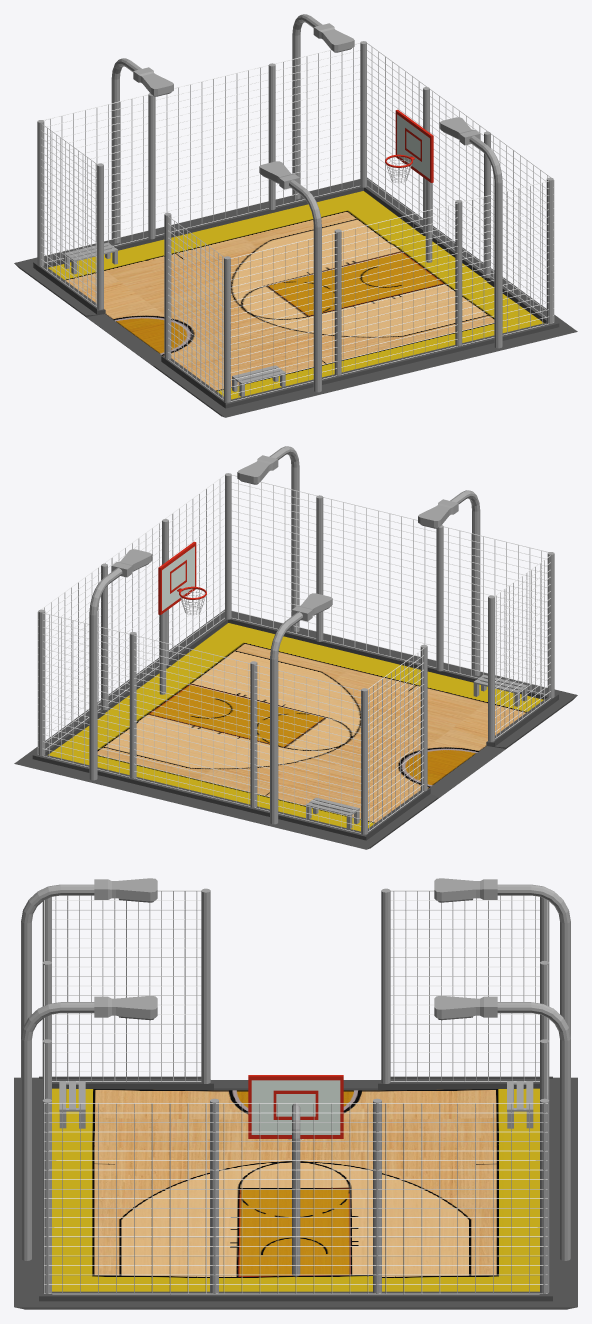
Rendered from basketball_court.fbx.
3 renders of one model, top to bottom at view 1: azimuth 30°, elevation 25°; view 2: azimuth 150°, elevation 25°; view 3: azimuth 270°, elevation 25°, orthographic. The views are drawn at different scales.
Visible parts, largest first — view 1: Plane, Plane.001, Cylinder.008, Cylinder.007, Cylinder.005, Cylinder.001, Cylinder.004, Cylinder.002, Cylinder.006, Cylinder.009, Cylinder.003, Plane.004 (+2 smaller); view 2: Plane, Plane.001, Cylinder.008, Cylinder.007, Cylinder.005, Cylinder.001, Cylinder.004, Cylinder.002, Cylinder.006, Cylinder.009, Cylinder.003, Plane.004 (+2 smaller); view 3: Plane, Plane.001, Cylinder.007, Cylinder.009, Cylinder.008, Cylinder.006, Cylinder.001, Cylinder.003, Plane.004, Plane.003, Cylinder, Cylinder.005 (+2 smaller).
Part boxes in pixels (<box>): Plane: <box>14,177,577,417</box>; Plane.001: <box>41,43,554,401</box>; Cylinder.008: <box>111,58,321,392</box>; Cylinder.007: <box>292,14,502,348</box>; Cylinder.005: <box>148,93,341,375</box>; Cylinder.001: <box>360,41,553,323</box>; Cylinder.004: <box>268,63,462,346</box>; Cylinder.002: <box>37,120,230,402</box>; Cylinder.006: <box>97,163,171,359</box>; Cylinder.009: <box>395,109,433,182</box>; Cylinder.003: <box>423,87,490,278</box>; Plane.004: <box>313,23,480,145</box>; Plane: <box>14,609,577,849</box>; Plane.001: <box>37,475,550,833</box>; Cylinder.008: <box>270,490,480,824</box>; Cylinder.007: <box>89,446,299,780</box>; Cylinder.005: <box>250,525,443,807</box>; Cylinder.001: <box>38,473,231,755</box>; Cylinder.004: <box>129,495,323,778</box>; Cylinder.002: <box>361,552,554,834</box>; Cylinder.006: <box>420,595,494,791</box>; Cylinder.009: <box>158,541,196,614</box>; Cylinder.003: <box>101,519,168,710</box>; Plane.004: <box>111,455,278,577</box>; Plane: <box>14,1076,577,1309</box>; Plane.001: <box>44,890,547,1294</box>; Cylinder.007: <box>21,1002,570,1260</box>; Cylinder.009: <box>248,1075,343,1138</box>; Cylinder.008: <box>21,884,570,1037</box>; Cylinder.006: <box>201,888,390,1083</box>; Cylinder.001: <box>42,1098,549,1293</box>; Cylinder.003: <box>210,1098,381,1293</box>; Plane.004: <box>94,995,497,1020</box>; Plane.003: <box>94,878,497,902</box>; Cylinder: <box>292,1102,300,1276</box>; Cylinder.005: <box>42,961,549,1040</box>.
Size of what is drawn, in the model's own units: 200 by 105 by 208.
